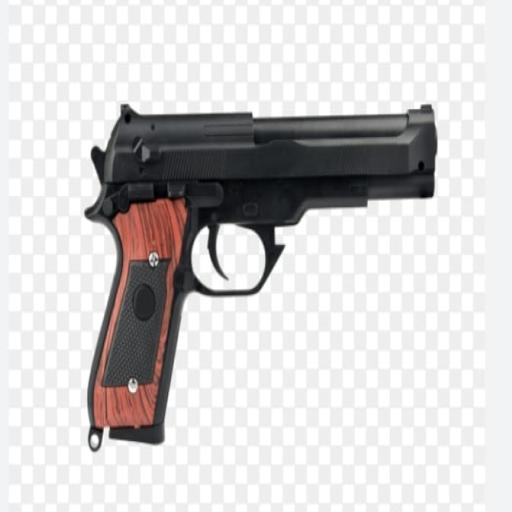Gun: (85, 105, 436, 448)
